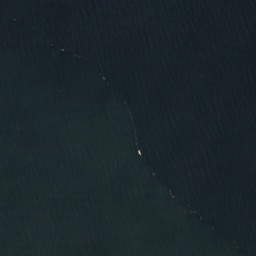Marine Debris: (120, 95, 143, 156), (99, 73, 110, 85), (73, 53, 86, 60), (168, 189, 176, 199), (233, 240, 239, 249), (189, 209, 198, 215), (60, 48, 66, 53), (151, 172, 156, 176), (199, 216, 202, 220), (13, 18, 16, 21)
